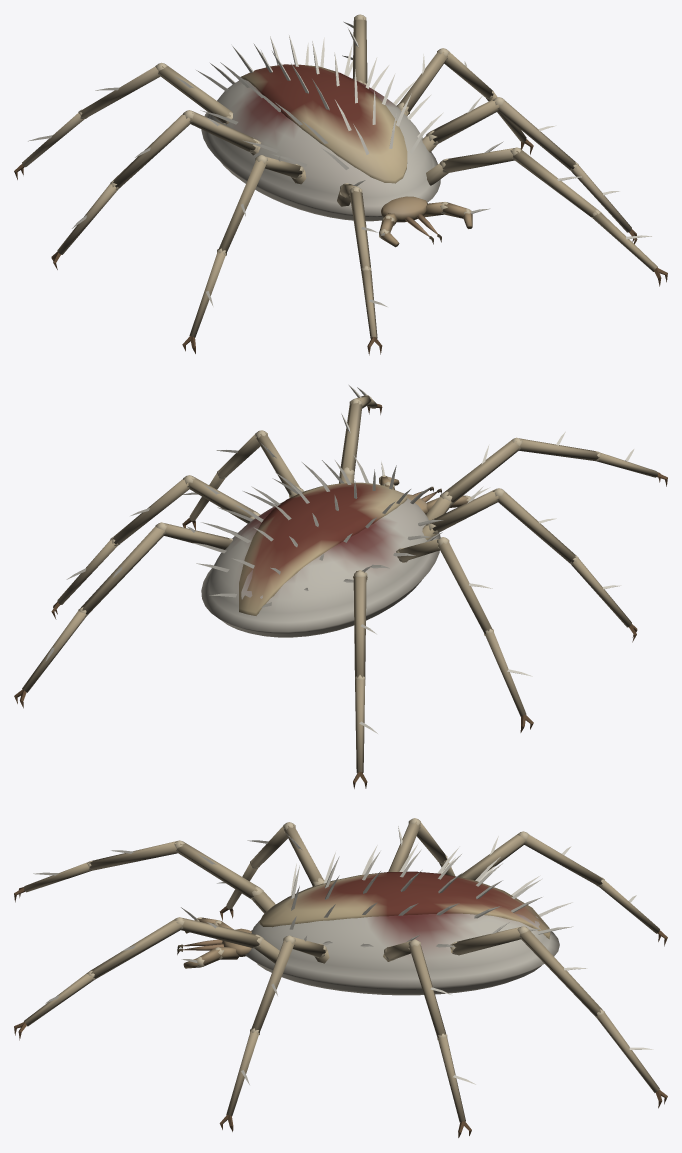
The model's file is TropicalRatMite.fbx.
The picture shows the model from 3 angles, top to bottom: view 1: azimuth 30°, elevation 25°; view 2: azimuth 150°, elevation 25°; view 3: azimuth 270°, elevation 25°; orthographic projection. The views are drawn at different scales.
Parts seen in each view (by area): view 1: TropicalRatMite; view 2: TropicalRatMite; view 3: TropicalRatMite.
Boxes of the visible parts, box(x1,y1,x2,y2) form: TropicalRatMite: box(14, 14, 667, 355); TropicalRatMite: box(14, 385, 667, 788); TropicalRatMite: box(14, 818, 667, 1137).
Bounding box in the file's own units: 0.9032 × 0.3064 × 1.09.
